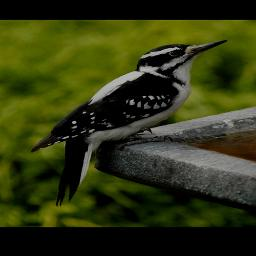Woodpecker: (31, 34, 230, 208)
